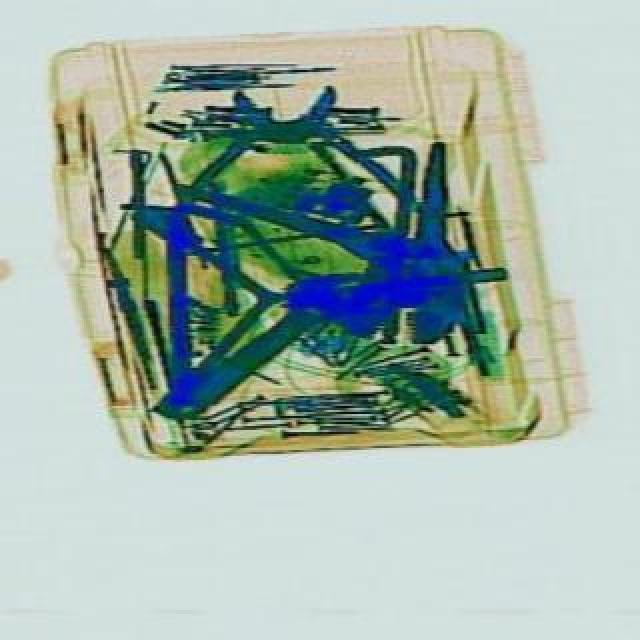wrench: (158, 84, 420, 228)
